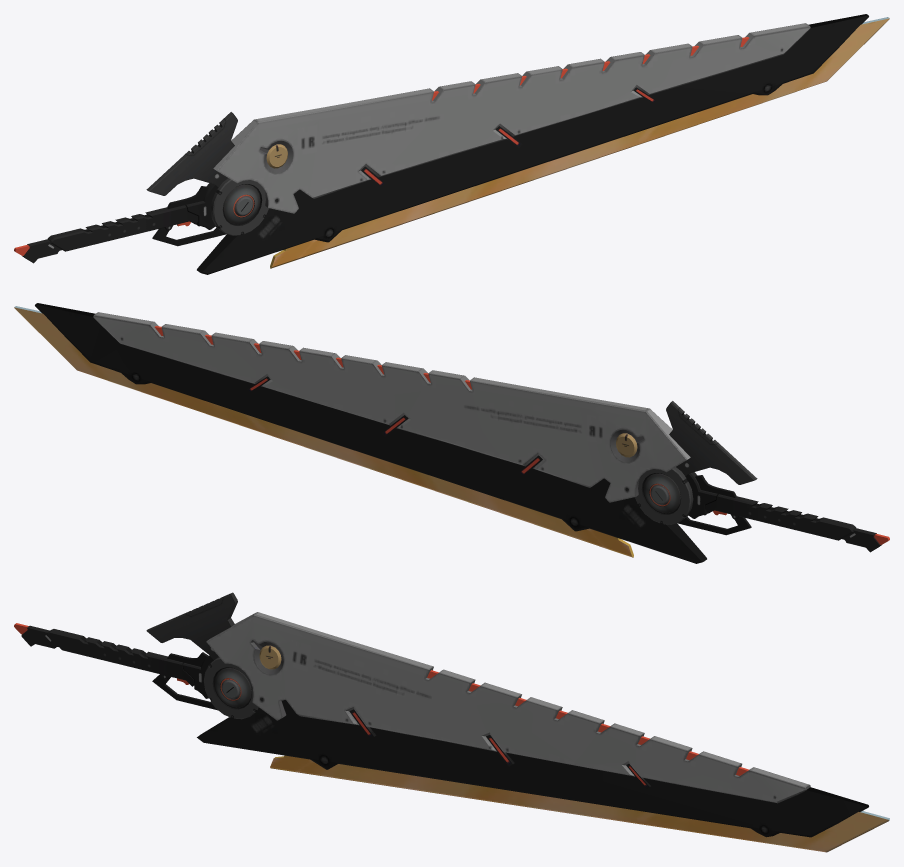
File: E3ClaymoreMd070011 #361238.fbx
3 renders of one model, top to bottom at view 1: azimuth 30°, elevation 25°; view 2: azimuth 150°, elevation 25°; view 3: azimuth 330°, elevation 25°, orthographic.
Parts seen in each view (by area): view 1: E3ClaymoreMd0700113, E3ClaymoreMd0700111, E3ClaymoreMd0700114, E3ClaymoreMd0700112; view 2: E3ClaymoreMd0700113, E3ClaymoreMd0700111, E3ClaymoreMd0700114, E3ClaymoreMd0700112; view 3: E3ClaymoreMd0700113, E3ClaymoreMd0700111, E3ClaymoreMd0700114, E3ClaymoreMd0700112.
Boxes of the visible parts, left/top/right/bottom form: E3ClaymoreMd0700113: left=146, top=23, right=810, bottom=213; E3ClaymoreMd0700111: left=14, top=14, right=868, bottom=274; E3ClaymoreMd0700114: left=270, top=17, right=889, bottom=268; E3ClaymoreMd0700112: left=210, top=178, right=268, bottom=235; E3ClaymoreMd0700113: left=93, top=312, right=757, bottom=502; E3ClaymoreMd0700111: left=35, top=303, right=889, bottom=563; E3ClaymoreMd0700114: left=14, top=306, right=633, bottom=557; E3ClaymoreMd0700112: left=635, top=467, right=693, bottom=524; E3ClaymoreMd0700113: left=146, top=592, right=810, bottom=803; E3ClaymoreMd0700111: left=14, top=623, right=868, bottom=837; E3ClaymoreMd0700114: left=270, top=755, right=889, bottom=852; E3ClaymoreMd0700112: left=204, top=657, right=258, bottom=719.
Bounding box in the file's own units: 1.91 × 0.3466 × 0.065.
Materials: 4 (4 with a texture image).
